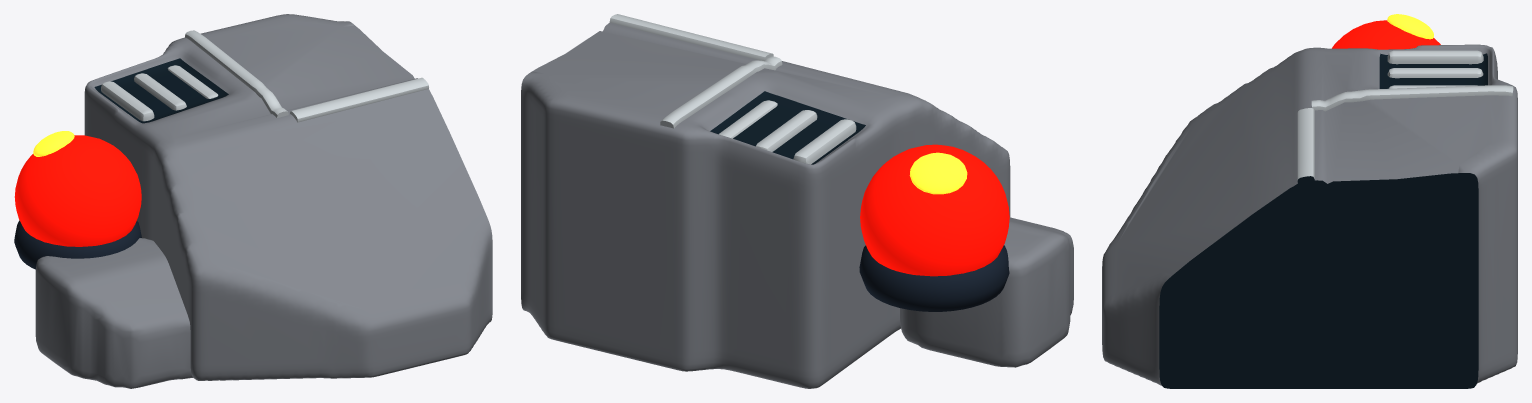
Rendered from claw_body_l.glb.
The picture shows the model from 3 angles, left to right: view 1: azimuth 30°, elevation 25°; view 2: azimuth 150°, elevation 25°; view 3: azimuth 270°, elevation 25°; orthographic projection. The views are drawn at different scales.
Parts seen in each view (by area): view 1: housing1.001, jaw1.001, ball1.001, collar1.001, crease1.001, ridge1.001, fin1_0.001, fin1_1.001, ball_hot1.001, fin1_2.001; view 2: housing1.001, ball1.001, jaw1.001, collar1.001, ball_hot1.001, ridge1.001, crease1.001, fin1_0.001, fin1_1.001, fin1_2.001; view 3: housing1.001, ridge1.001, ball1.001, crease1.001, fin1_0.001, fin1_1.001, ball_hot1.001.
Part boxes in pixels (box(x1,y1,x2,y2)): housing1.001: box(84, 14, 492, 380); jaw1.001: box(35, 238, 192, 388); ball1.001: box(14, 135, 141, 246); collar1.001: box(14, 220, 141, 269); crease1.001: box(290, 77, 428, 122); ridge1.001: box(185, 30, 288, 117); fin1_0.001: box(101, 81, 154, 121); fin1_1.001: box(134, 73, 186, 110); ball_hot1.001: box(33, 131, 74, 156); fin1_2.001: box(167, 65, 218, 98); housing1.001: box(521, 22, 1010, 388); ball1.001: box(860, 144, 1009, 276); jaw1.001: box(900, 217, 1073, 367); collar1.001: box(859, 245, 1009, 311); ball_hot1.001: box(909, 152, 967, 194); ridge1.001: box(660, 56, 782, 128); crease1.001: box(609, 14, 773, 60); fin1_0.001: box(793, 119, 856, 164); fin1_1.001: box(756, 110, 817, 151); fin1_2.001: box(719, 100, 777, 138); housing1.001: box(1102, 44, 1517, 388); ridge1.001: box(1311, 85, 1513, 111); ball1.001: box(1332, 20, 1440, 49); crease1.001: box(1297, 108, 1314, 188); fin1_0.001: box(1387, 50, 1483, 64); fin1_1.001: box(1387, 68, 1483, 78); ball_hot1.001: box(1387, 14, 1433, 39).
Bounding box in the file's own units: 22.67 × 12.21 × 20.17.
